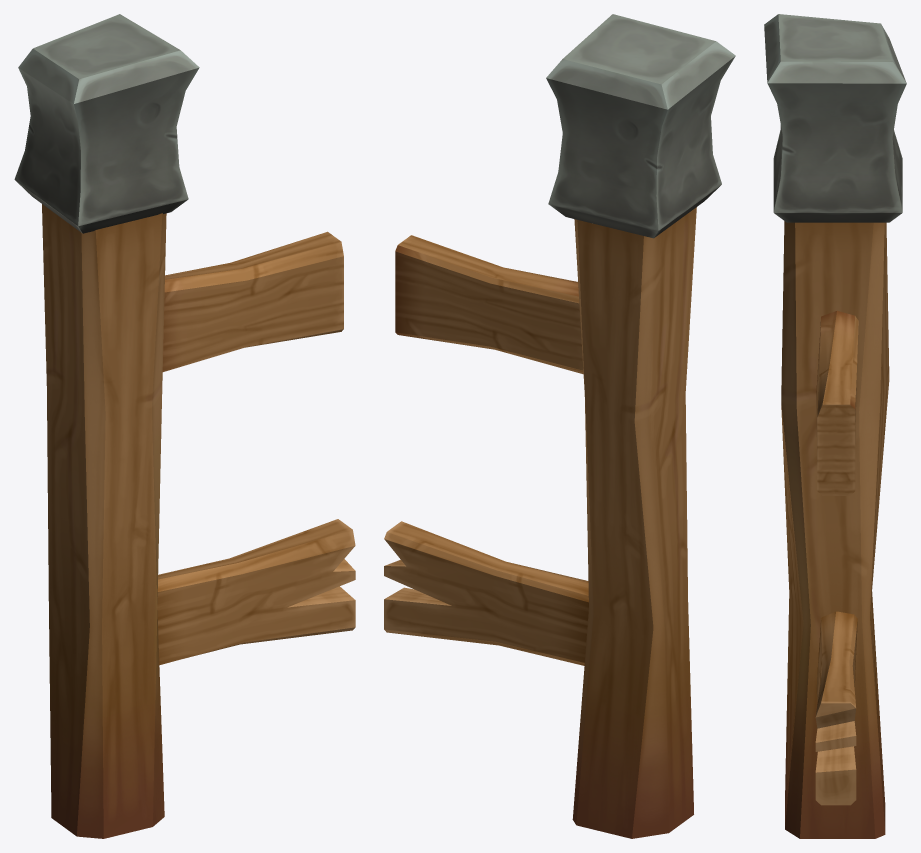
File: Fence #1 - Post.fbx
The picture shows the model from 3 angles, left to right: view 1: azimuth 30°, elevation 25°; view 2: azimuth 150°, elevation 25°; view 3: azimuth 270°, elevation 25°; orthographic projection.
Parts seen in each view (by area): view 1: Fence #1 - Post; view 2: Fence #1 - Post; view 3: Fence #1 - Post.
Boxes of the visible parts, x1,y1,x2,y2 form: Fence #1 - Post: [14, 14, 355, 838]; Fence #1 - Post: [384, 14, 735, 838]; Fence #1 - Post: [764, 14, 906, 838].
Bounding box in the file's own units: 61.13 × 147 × 24.32.
Materials: 1 (1 with a texture image).
